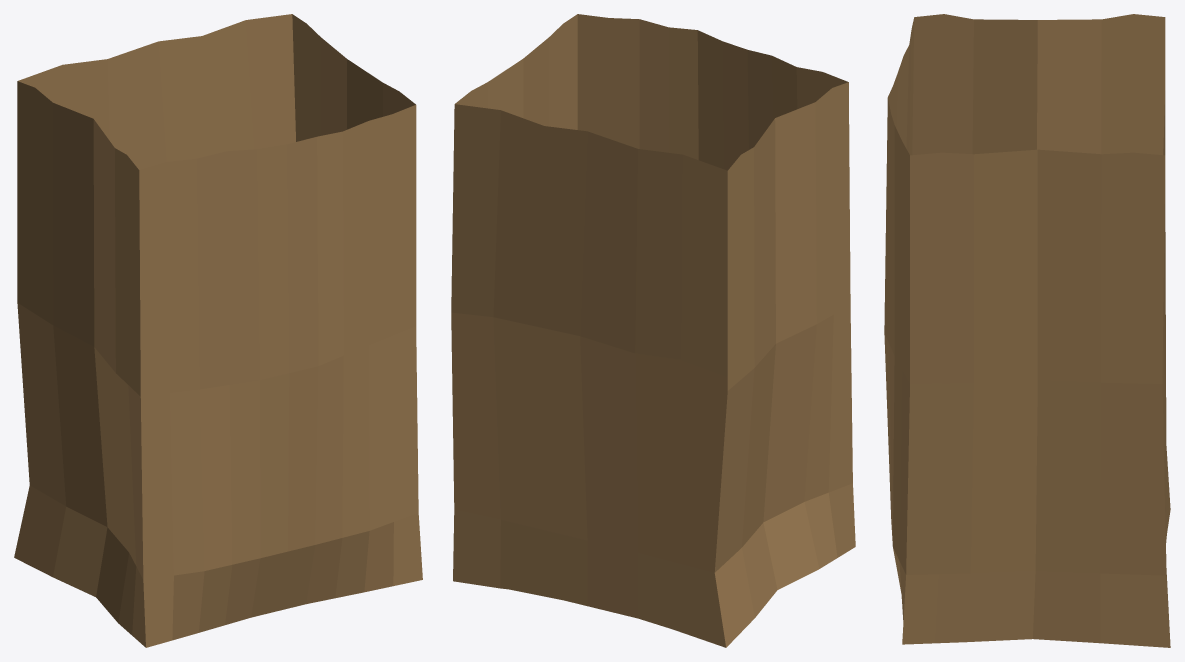
The model's file is brown_paper_bag.fbx.
3 renders of one model, left to right at view 1: azimuth 30°, elevation 25°; view 2: azimuth 150°, elevation 25°; view 3: azimuth 270°, elevation 25°, orthographic. The views are drawn at different scales.
Visible parts, largest first — view 1: brown paper bag; view 2: brown paper bag; view 3: brown paper bag.
Part boxes in pixels (x1,y1,x2,y2): brown paper bag: (14,14,422,647); brown paper bag: (451,14,855,647); brown paper bag: (884,14,1170,647).
Size of the model in its own units: 165 by 272 by 142.
